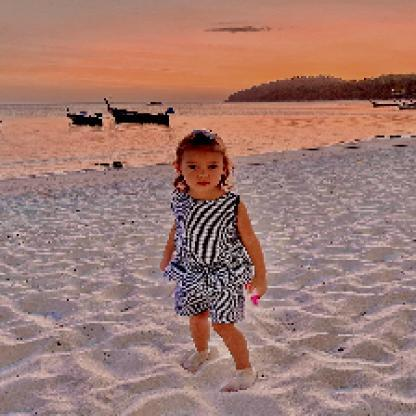child: (159, 130, 271, 394)
